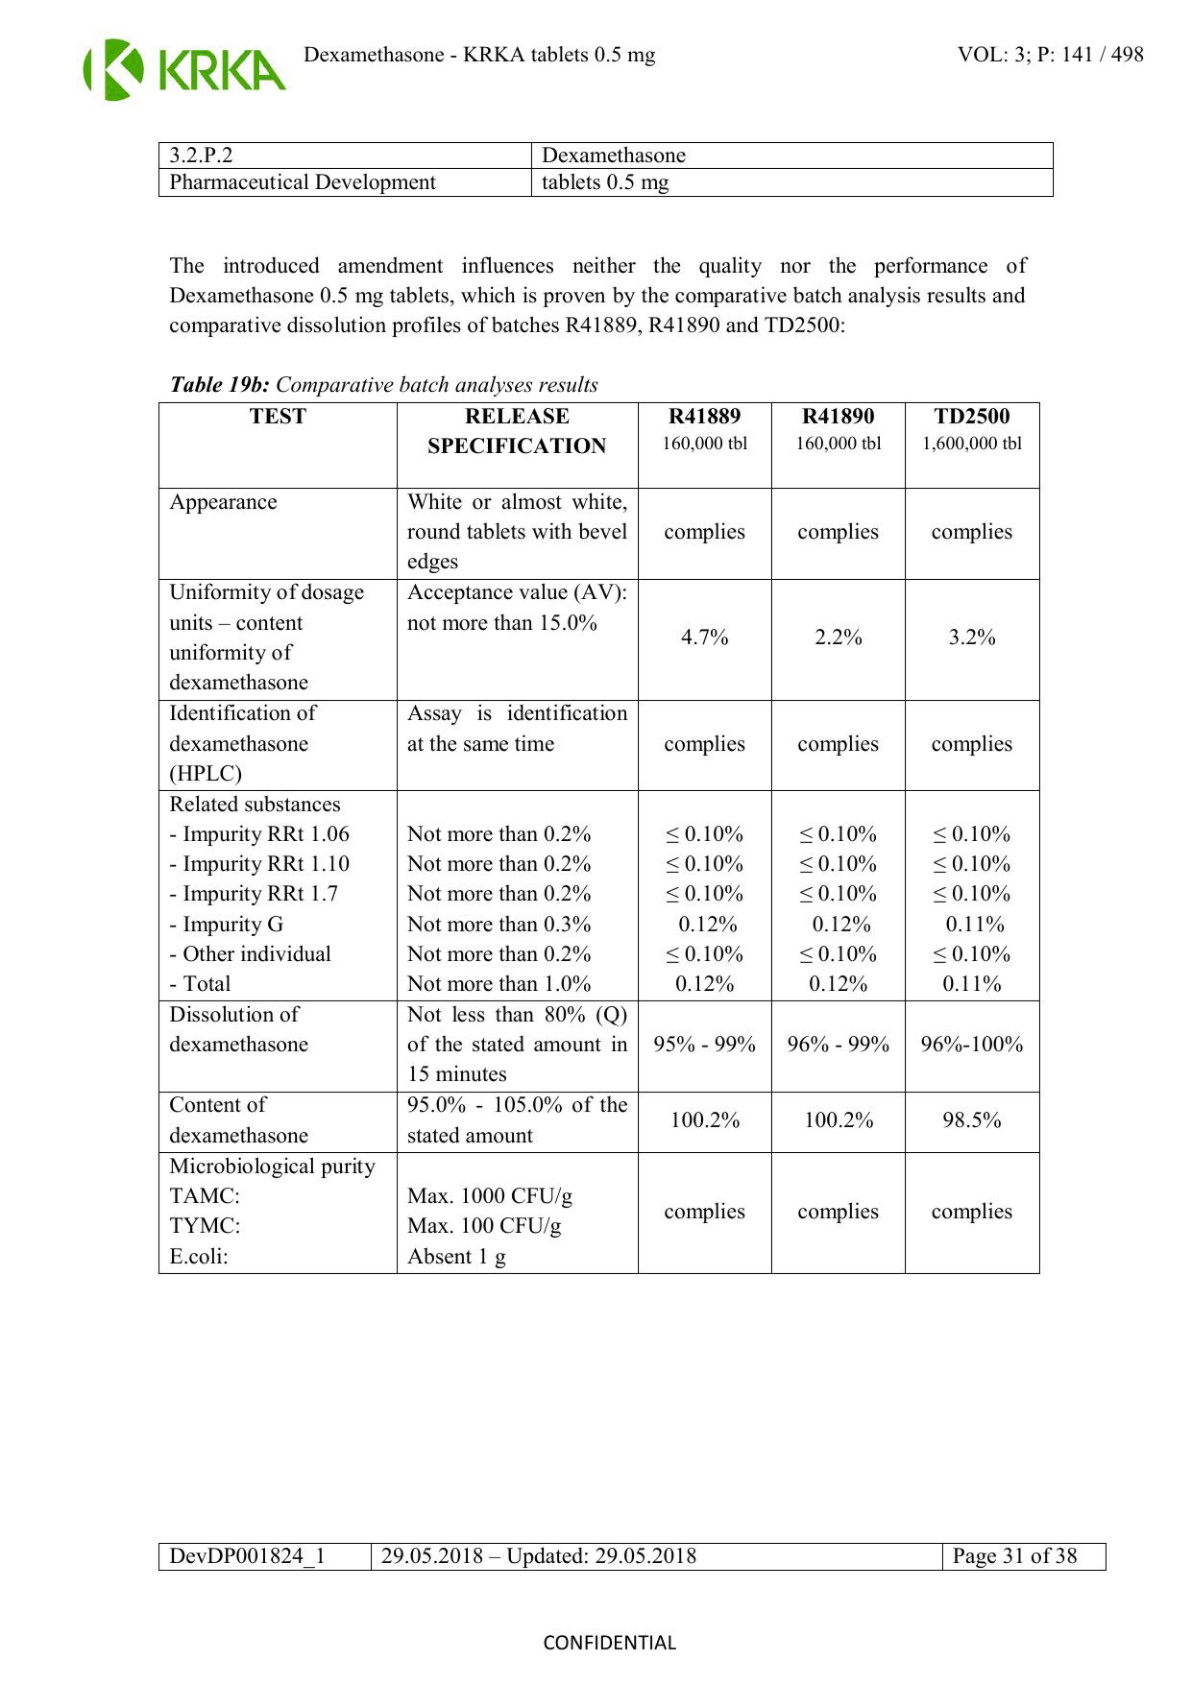full_lined: (157, 401, 1041, 1274), (157, 141, 1054, 197), (157, 1542, 1107, 1571)
